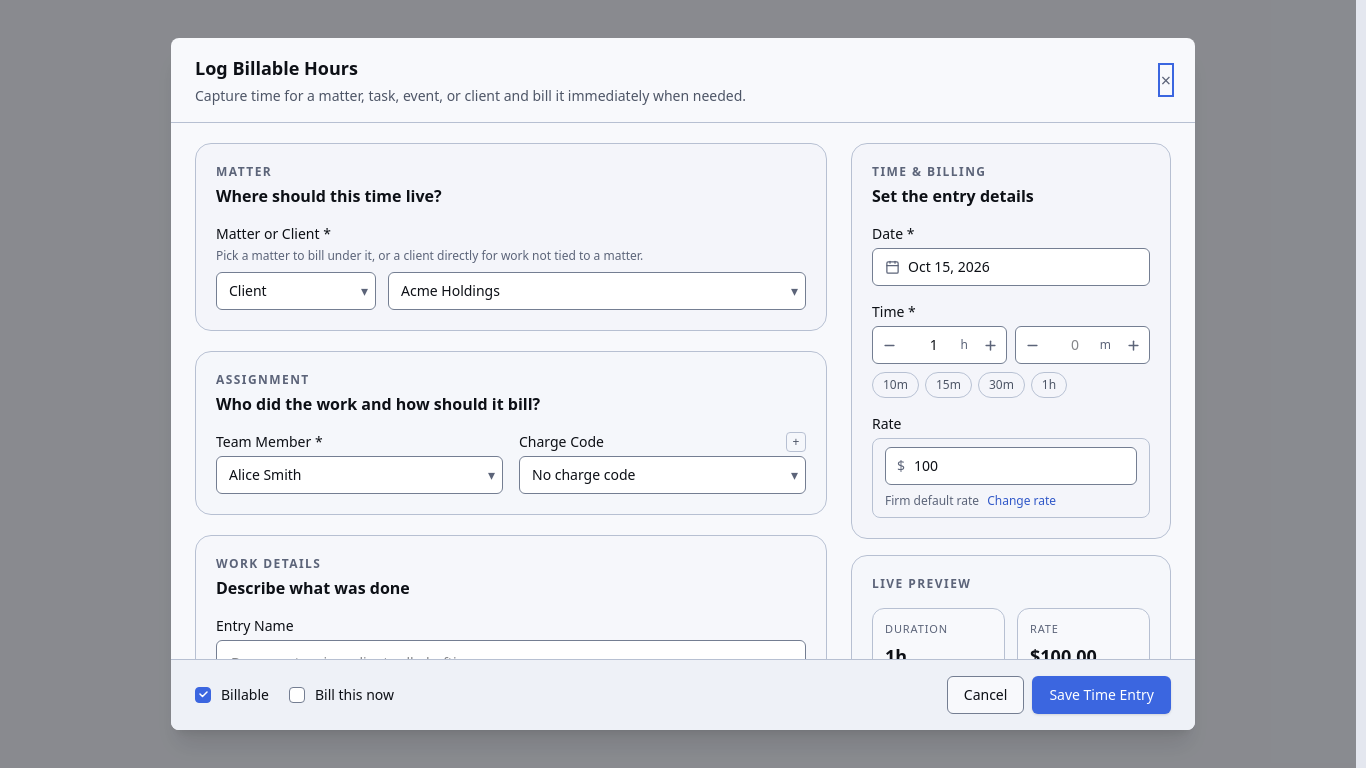
Test: a refused save › shows the server's reason and keeps the modal open
Check: the 3rd number field holds "100", box [885,447,1137,485]
Click the button "Save Time Entry". click: (1102, 695)
box: [1032,676,1171,714]
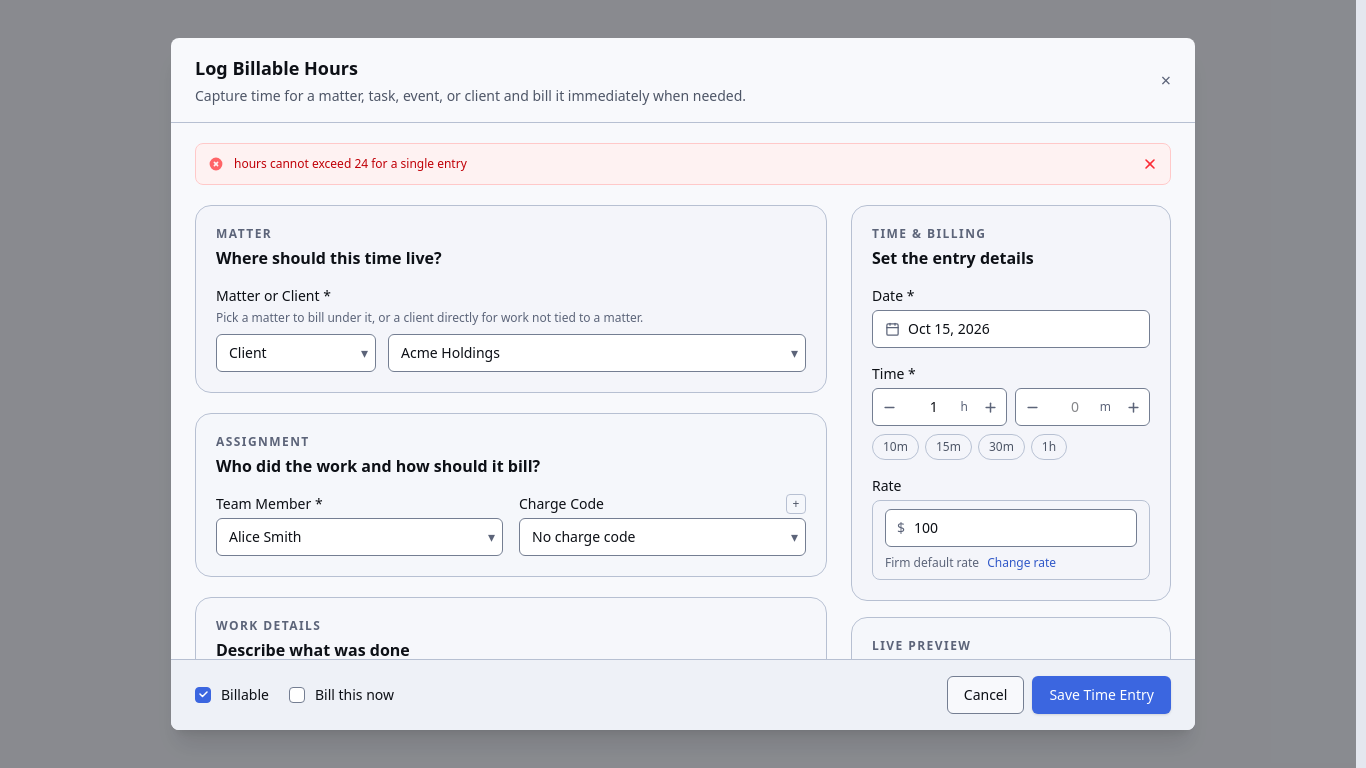
Check: the text "hours cannot exceed 24 for a single entry" is shown, box [234,155,467,172]
